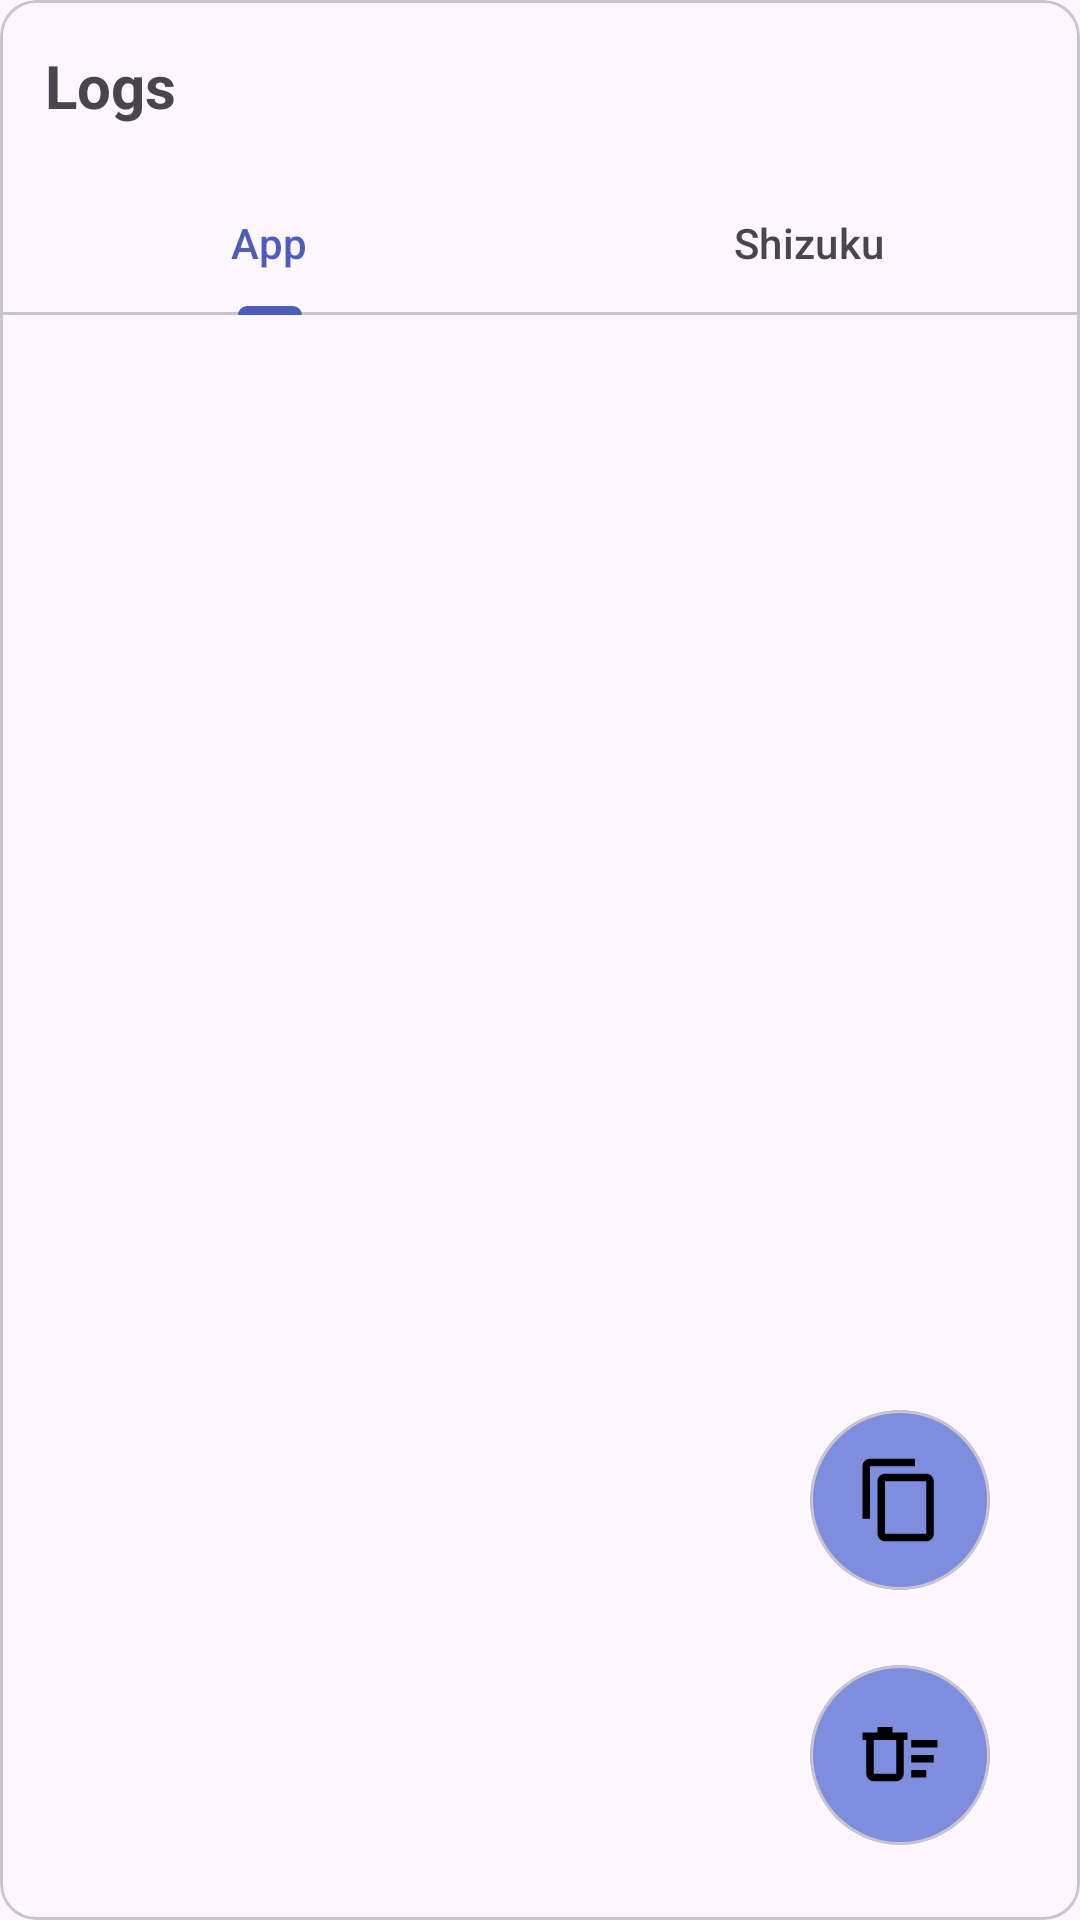

Where to tap for icons on this 1080*1920 app screen, as point (x, y):
clear logs: point (900, 1754)
copy logs: point (898, 1500)
